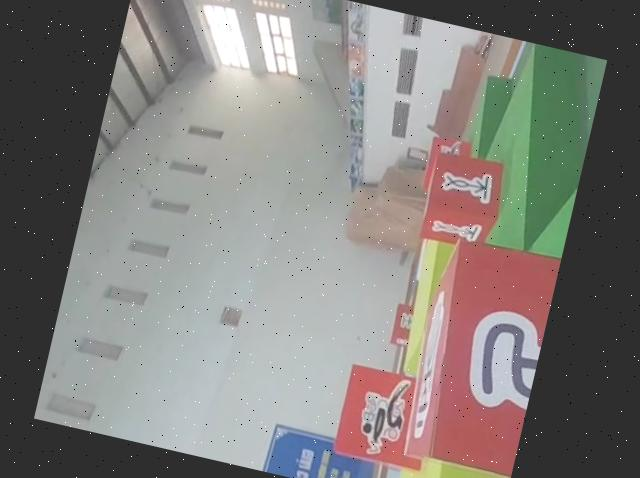R1: (328, 357, 446, 477)
R2 Fake: (394, 224, 563, 478)
R2 Real: (415, 144, 514, 255)
